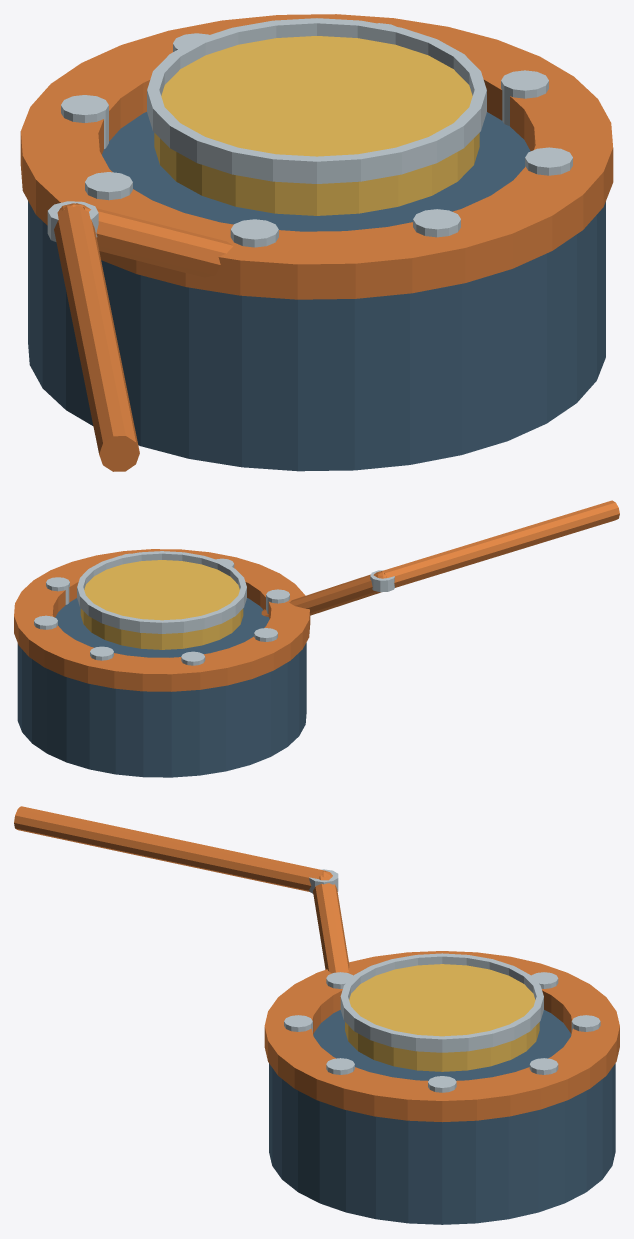
Rendered from 28_L73_CarrierDownforceLoadCell.fbx.
3 views of the same model, one above another, from view 1: azimuth 30°, elevation 25°; view 2: azimuth 150°, elevation 25°; view 3: azimuth 270°, elevation 25° (orthographic). The views are drawn at different scales.
Visible parts, largest first — view 1: CarrierDownforceLoadCell, CarrierDownforceLoadCell_Part_0002, CarrierDownforceLoadCell_Part_0003; view 2: CarrierDownforceLoadCell, CarrierDownforceLoadCell_Part_0002, CarrierDownforceLoadCell_Part_0003; view 3: CarrierDownforceLoadCell, CarrierDownforceLoadCell_Part_0002, CarrierDownforceLoadCell_Part_0003.
Boxes of the visible parts, x1,y1,x2,y2 form: CarrierDownforceLoadCell: (20, 14, 613, 471); CarrierDownforceLoadCell_Part_0002: (154, 36, 479, 215); CarrierDownforceLoadCell_Part_0003: (147, 18, 486, 183); CarrierDownforceLoadCell: (14, 500, 619, 777); CarrierDownforceLoadCell_Part_0002: (80, 560, 243, 649); CarrierDownforceLoadCell_Part_0003: (77, 551, 246, 633); CarrierDownforceLoadCell: (14, 806, 619, 1224); CarrierDownforceLoadCell_Part_0002: (345, 964, 539, 1071); CarrierDownforceLoadCell_Part_0003: (340, 953, 543, 1052).
Bounding box in the file's own units: 135 × 47.76 × 143.
